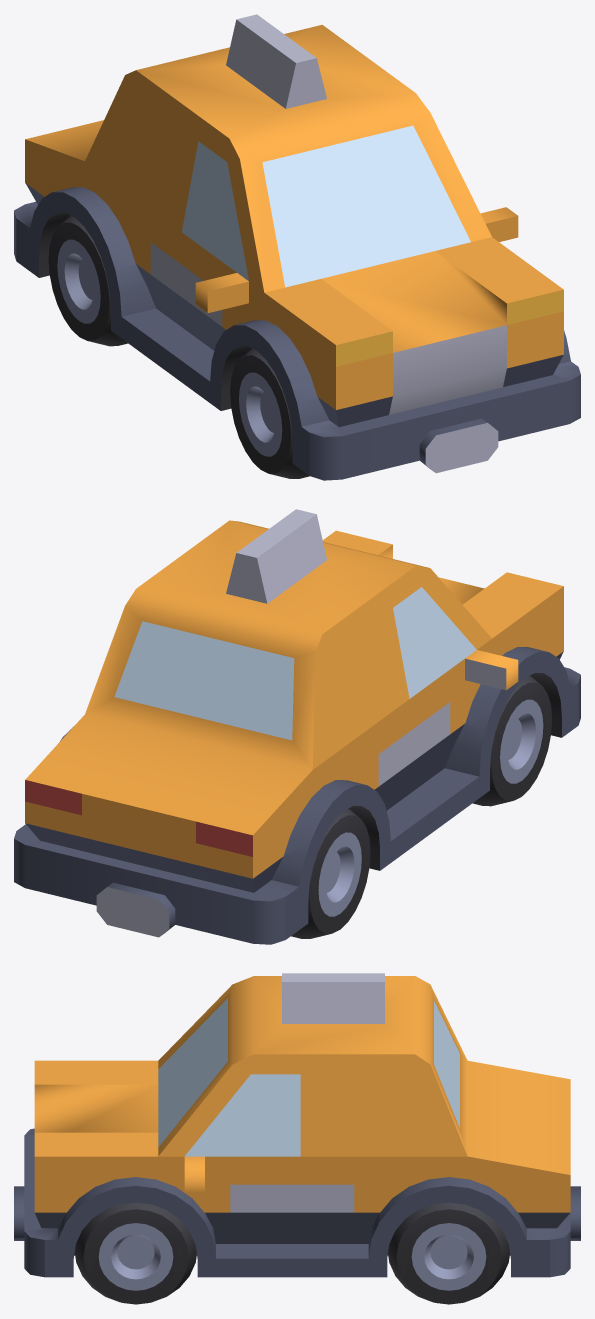
File: vehicle-taxi-yellow.glb
3 views of the same model, one above another, from view 1: azimuth 30°, elevation 25°; view 2: azimuth 150°, elevation 25°; view 3: azimuth 270°, elevation 25° (orthographic). The views are drawn at different scales.
Visible parts, largest first — view 1: body, wheel-front-right, wheel-back-right; view 2: body, wheel-back-right, wheel-front-right; view 3: body, wheel-front-left, wheel-back-left.
Part boxes in pixels (x1,y1,x2,y2): body: (14,14,580,480); wheel-front-right: (230,348,309,478); wheel-back-right: (48,215,127,346); body: (14,509,580,944); wheel-back-right: (291,808,370,938); wheel-front-right: (472,675,552,806); body: (14,973,580,1277); wheel-front-left: (74,1202,196,1304); wheel-back-left: (388,1202,509,1304).
Bounding box in the file's own units: 1.5 × 1.5 × 2.75.
1 material, 1 textured.
